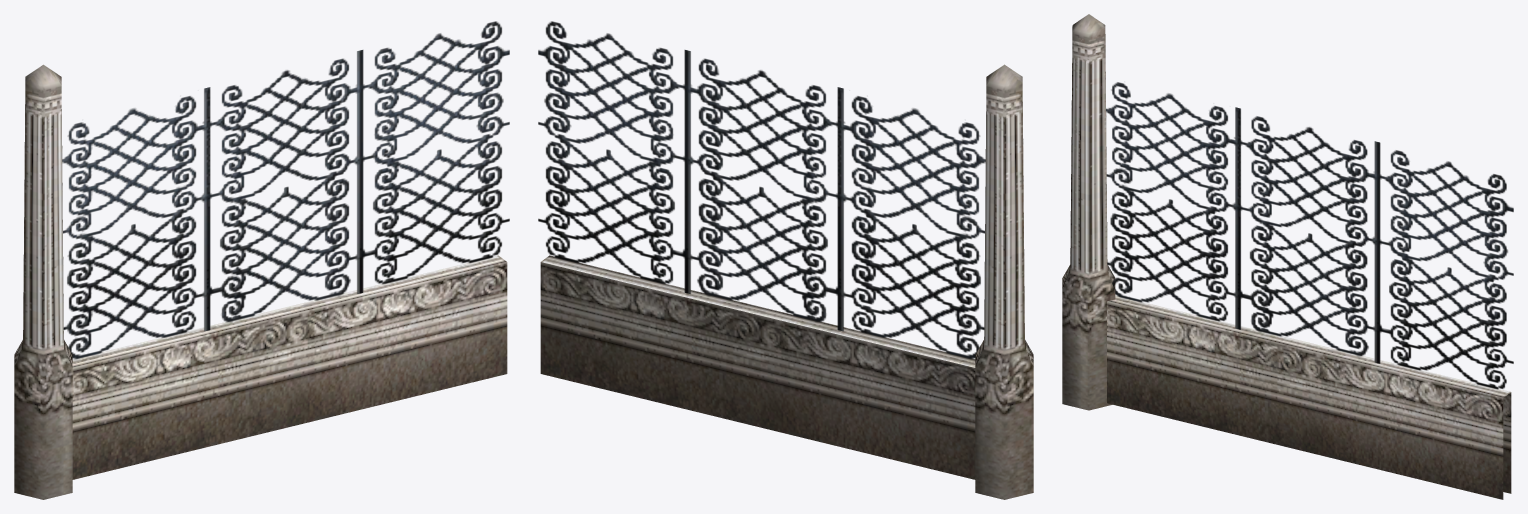
Rendered from rd_fen1.glb.
3 views of the same model, side by side, from view 1: azimuth 30°, elevation 25°; view 2: azimuth 150°, elevation 25°; view 3: azimuth 330°, elevation 25° (orthographic). The views are drawn at different scales.
Visible parts, largest first — view 1: rd_fen1; view 2: rd_fen1; view 3: rd_fen1.
Boxes of the visible parts, left/top/right/bottom form: rd_fen1: left=14, top=21, right=509, bottom=499; rd_fen1: left=538, top=21, right=1033, bottom=499; rd_fen1: left=1062, top=14, right=1513, bottom=499.
Bounding box in the file's own units: 5.51 × 4.48 × 0.5615.
Materials: 2 (2 with a texture image).
